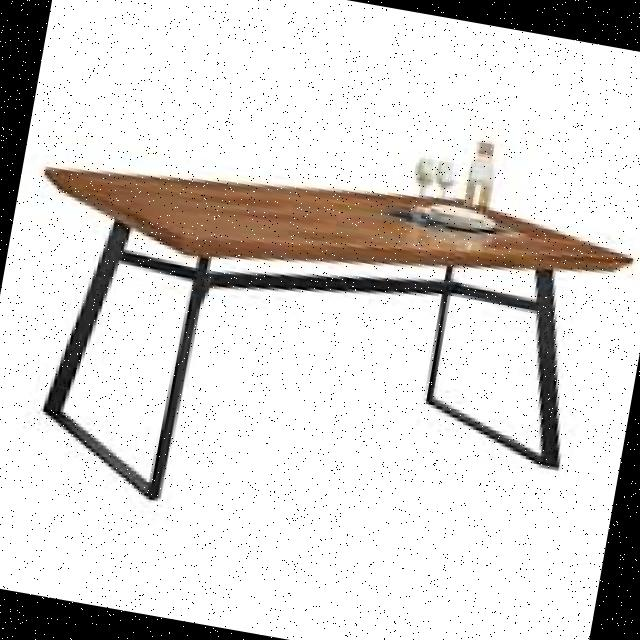Table: (0, 116, 640, 599)
